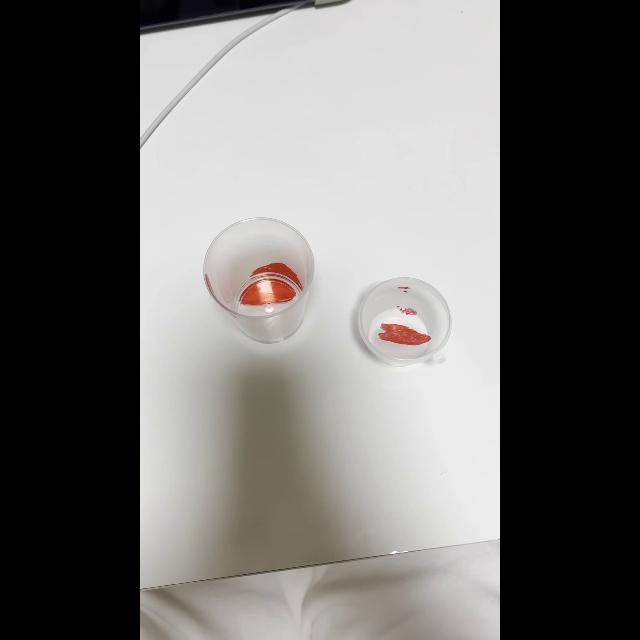dirty: (210, 220, 318, 346), (356, 270, 460, 372)
